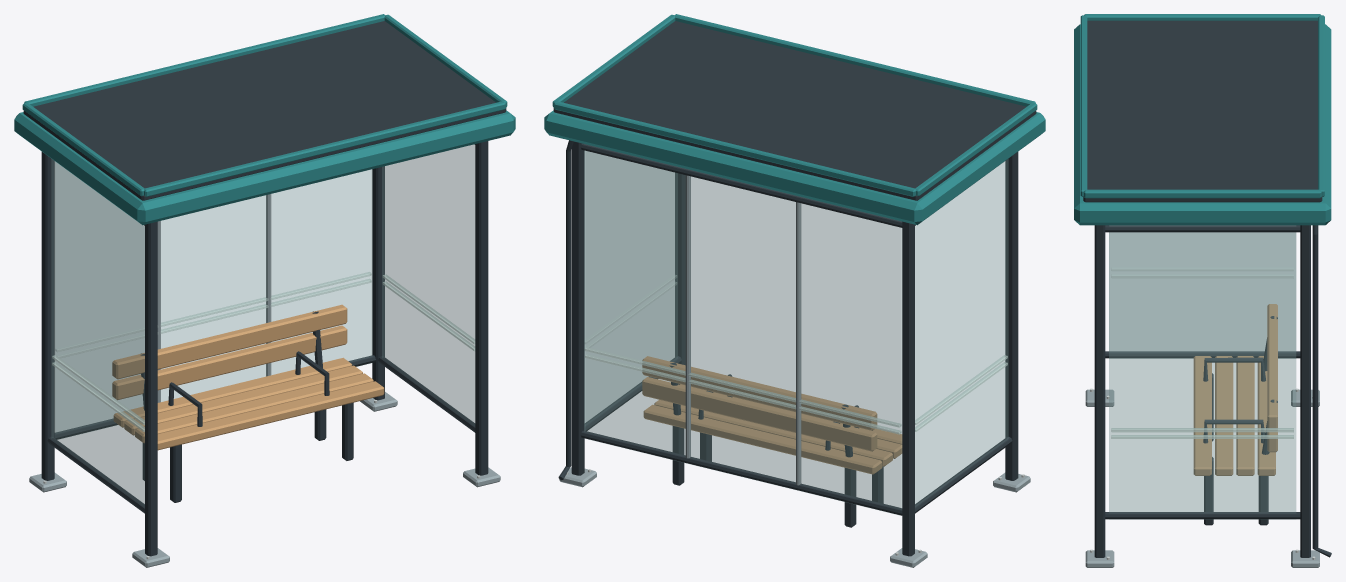
The model's file is Bus_Shelter_Compact.glb.
3 renders of one model, left to right at view 1: azimuth 30°, elevation 25°; view 2: azimuth 150°, elevation 25°; view 3: azimuth 270°, elevation 25°, orthographic.
Parts seen in each view (by area): view 1: Bus_Shelter_Compact; view 2: Bus_Shelter_Compact; view 3: Bus_Shelter_Compact.
Part boxes in pixels (<box>): Bus_Shelter_Compact: <box>14,14,515,567</box>; Bus_Shelter_Compact: <box>544,14,1045,567</box>; Bus_Shelter_Compact: <box>1074,14,1331,567</box>.
Bounding box in the file's own units: 2.86 × 2.75 × 1.69.
